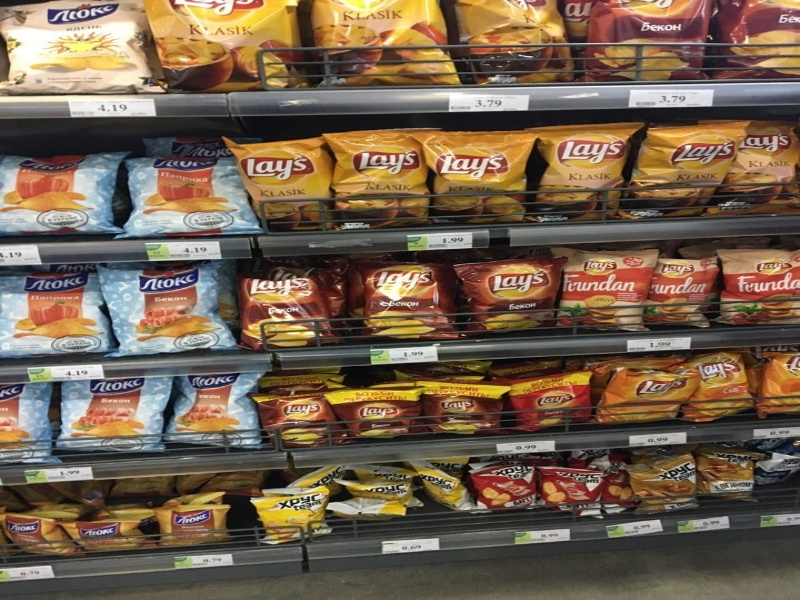chips: (327, 121, 437, 232), (422, 120, 534, 226), (630, 119, 737, 222), (233, 131, 341, 232), (530, 118, 634, 222), (458, 254, 567, 339), (353, 259, 462, 343), (559, 246, 656, 335), (241, 275, 346, 348), (251, 387, 357, 455), (417, 372, 514, 443), (506, 366, 604, 435), (717, 248, 800, 329), (598, 363, 695, 430), (333, 377, 424, 448)
